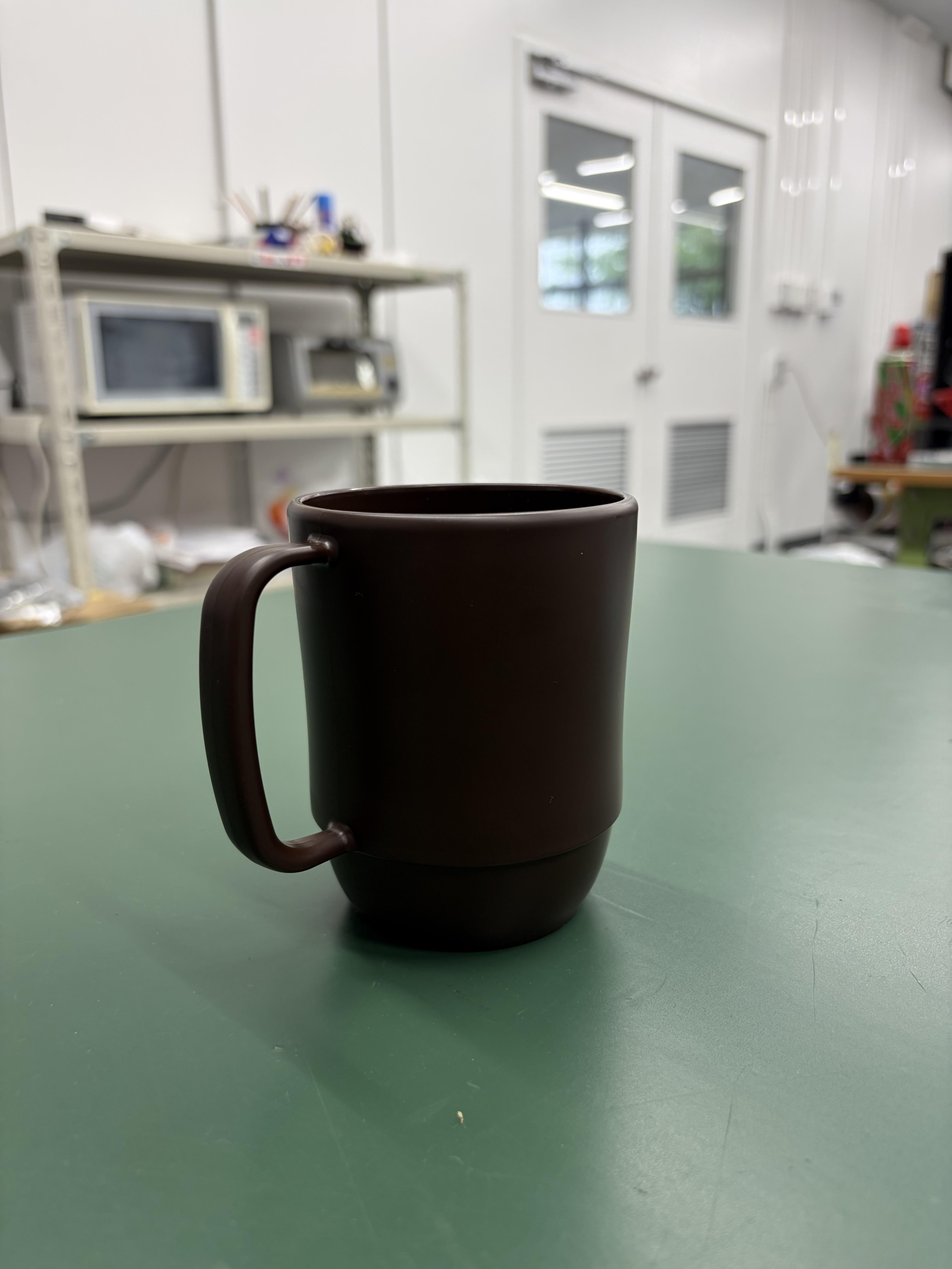mug-real100-3d100: (200, 484, 638, 948)
